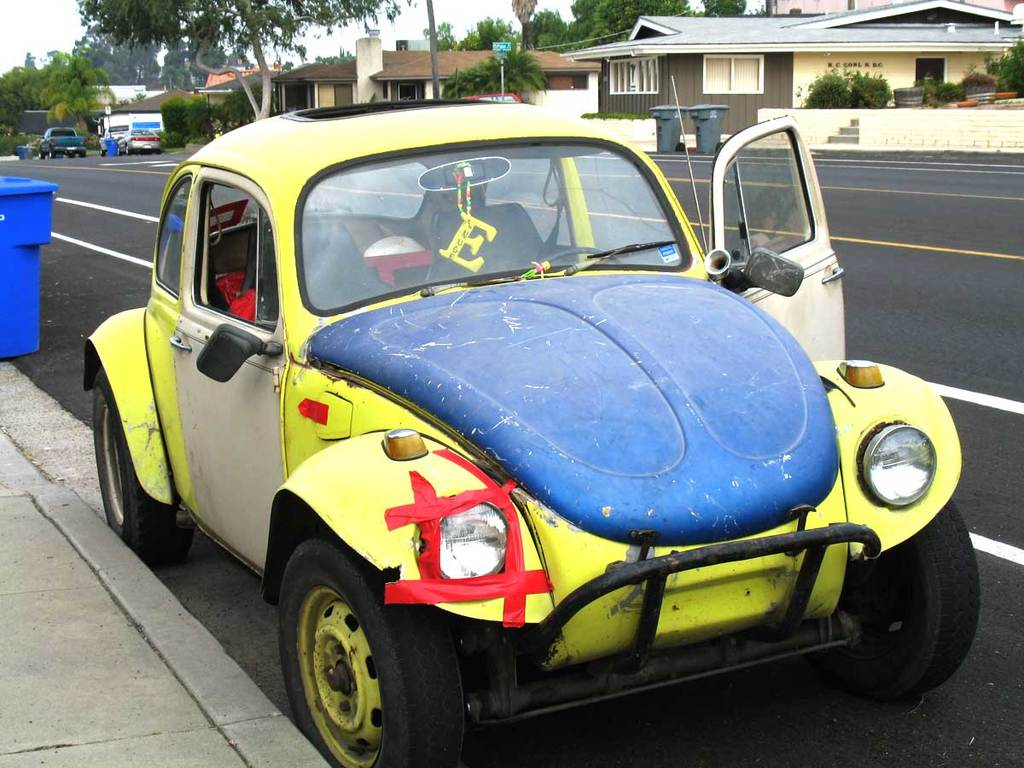Car: (81, 76, 984, 767), (114, 128, 160, 154)
